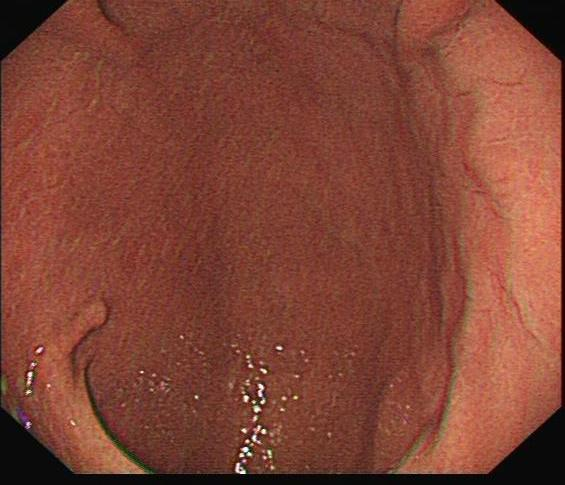Polyp: (34, 289, 126, 412)
